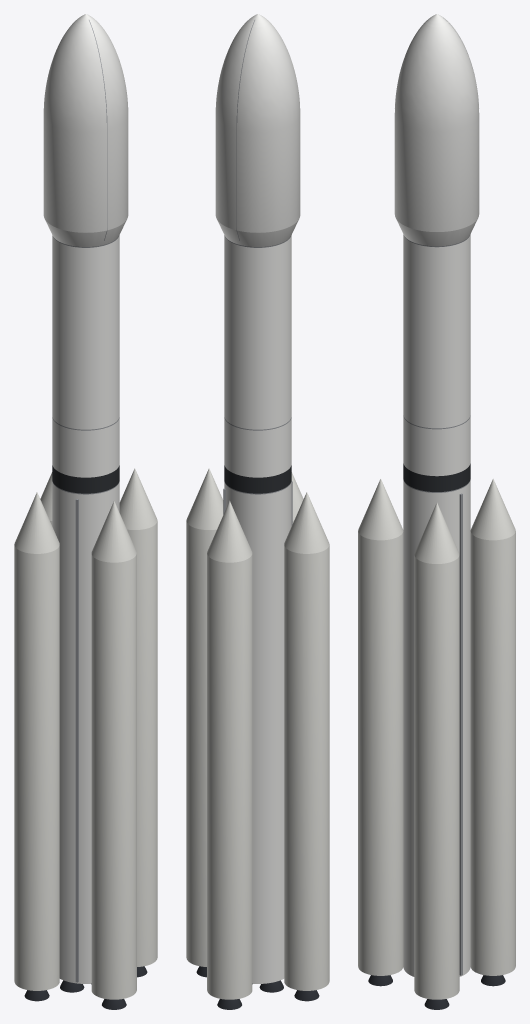
3 views of the same model, side by side, from view 1: azimuth 30°, elevation 25°; view 2: azimuth 150°, elevation 25°; view 3: azimuth 270°, elevation 25° (orthographic).
Parts seen in each view (by area): view 1: lm7; view 2: lm7; view 3: lm7.
Part boxes in pixels (box(x1,y1,x2,y2)): lm7: box(14, 14, 157, 1009); lm7: box(186, 14, 329, 1009); lm7: box(358, 14, 515, 1009).
Size of the model in its own units: 7.85 by 53.1 by 7.85.
1 material, 1 textured.
